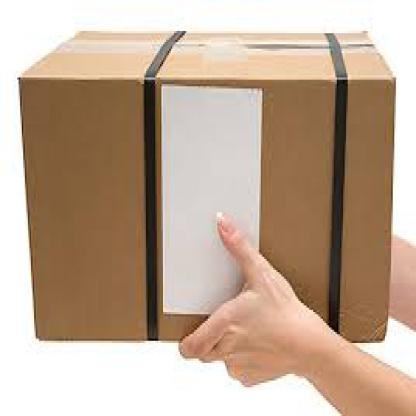paquete: (11, 2, 396, 361)
